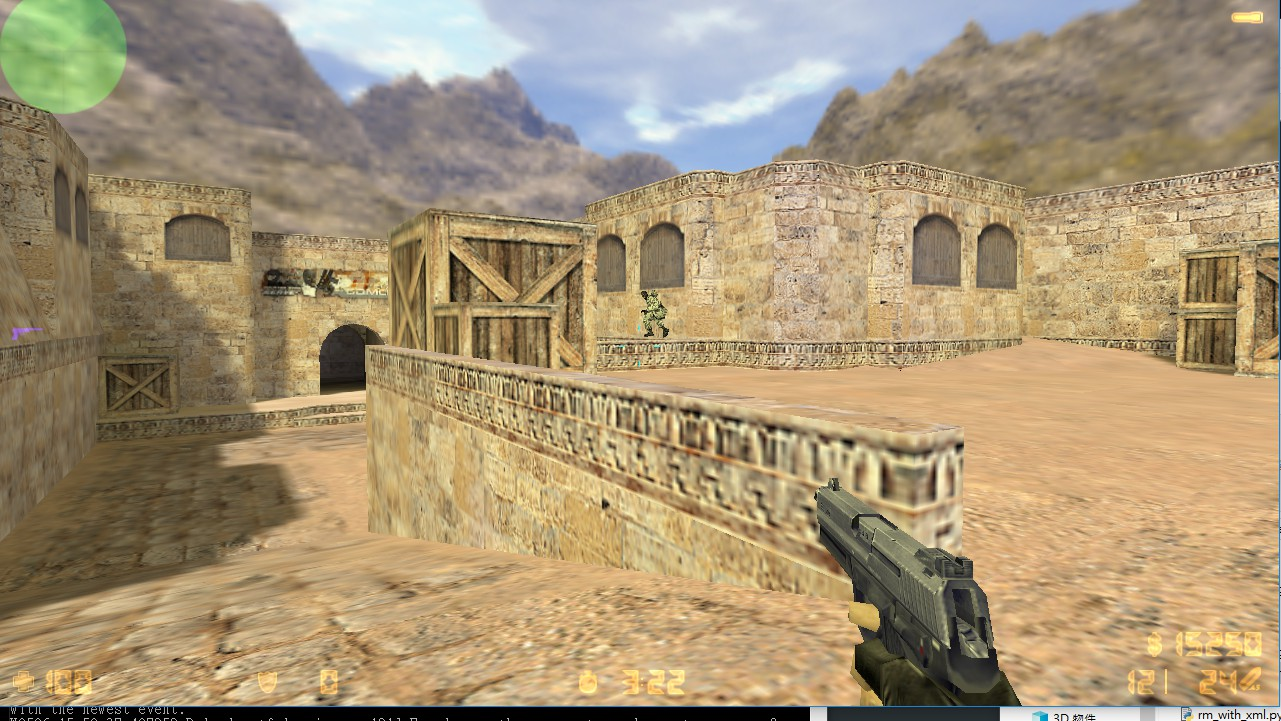person: (635, 284, 680, 345)
